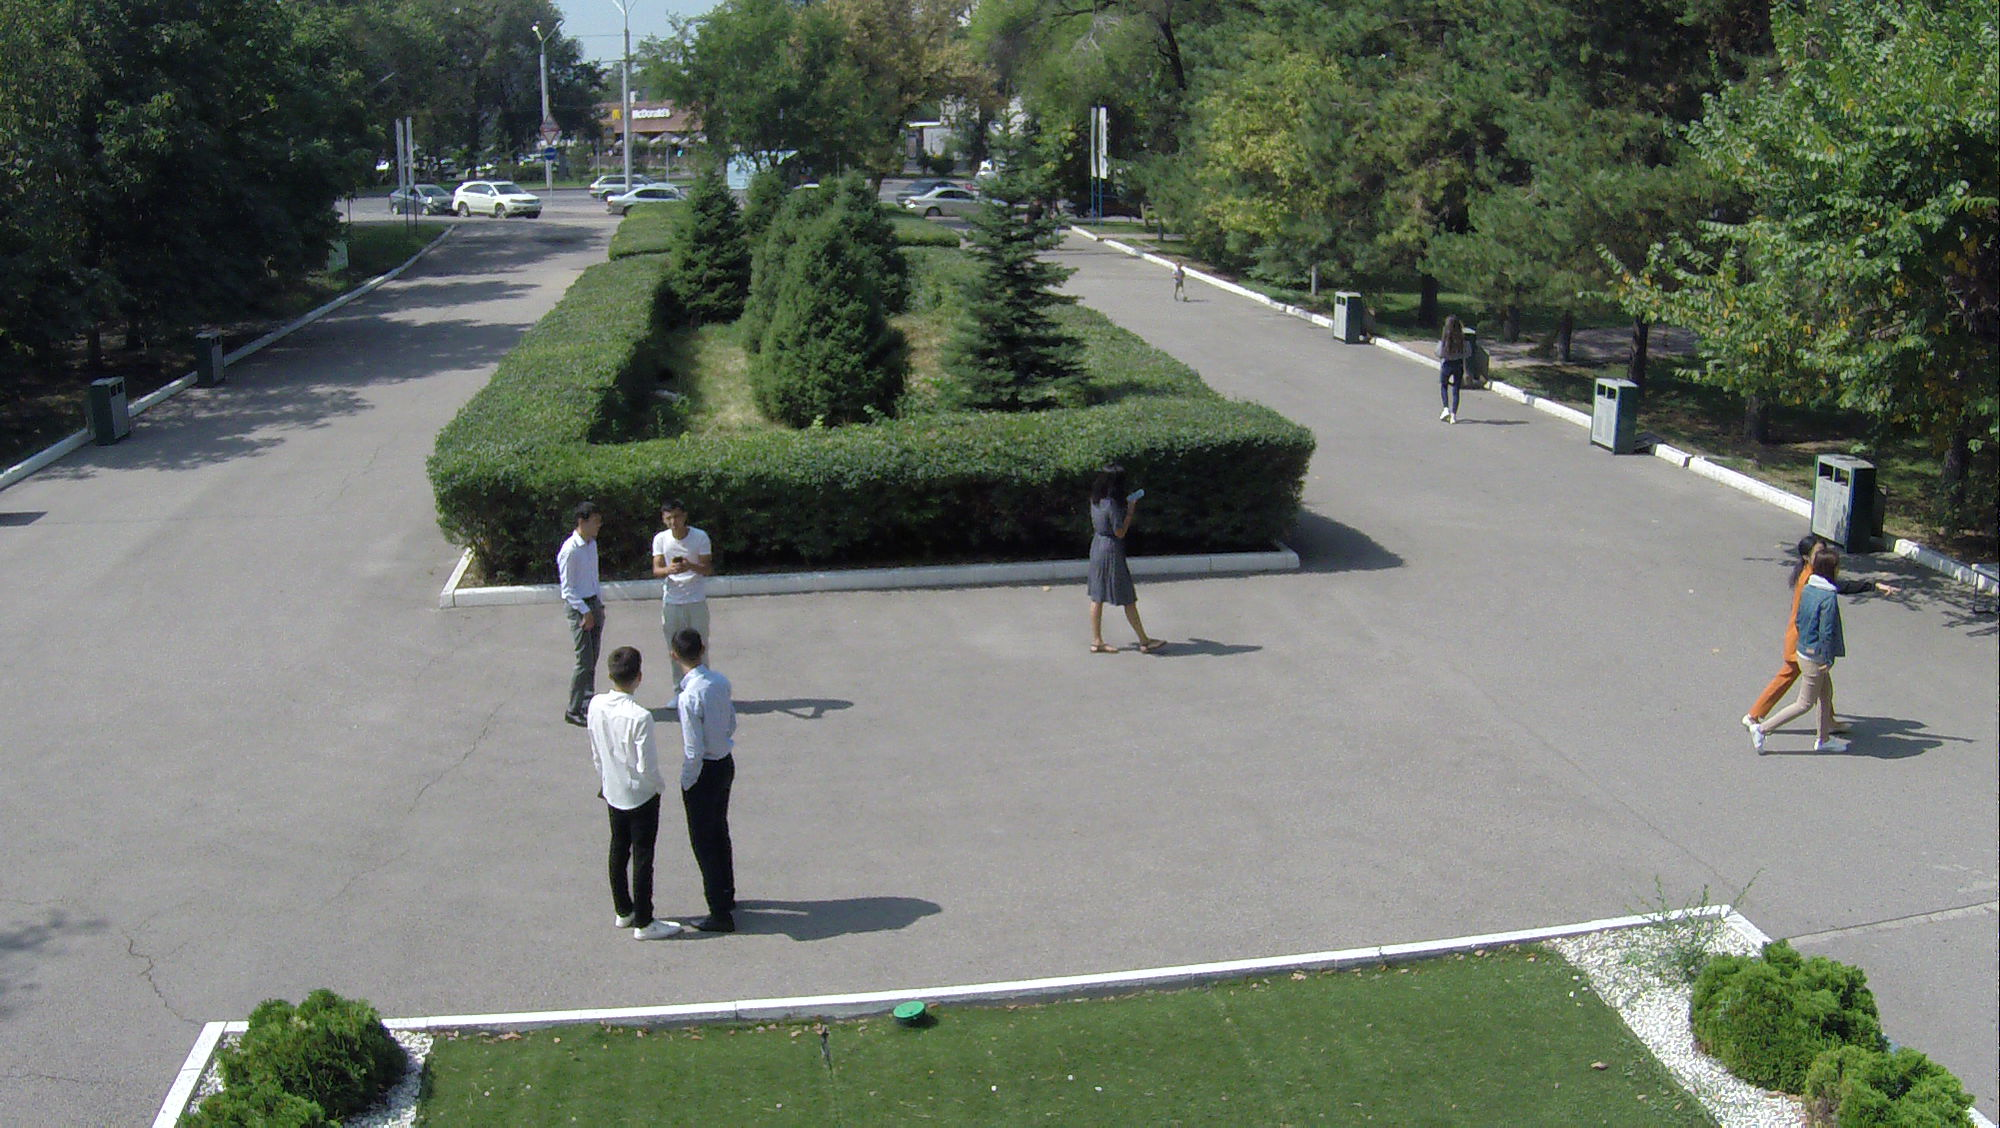person: (578, 651, 691, 933), (1757, 555, 1849, 770), (666, 630, 730, 933), (1076, 460, 1153, 666), (549, 493, 607, 730), (655, 499, 716, 716), (1430, 310, 1468, 428), (1166, 255, 1185, 308)
